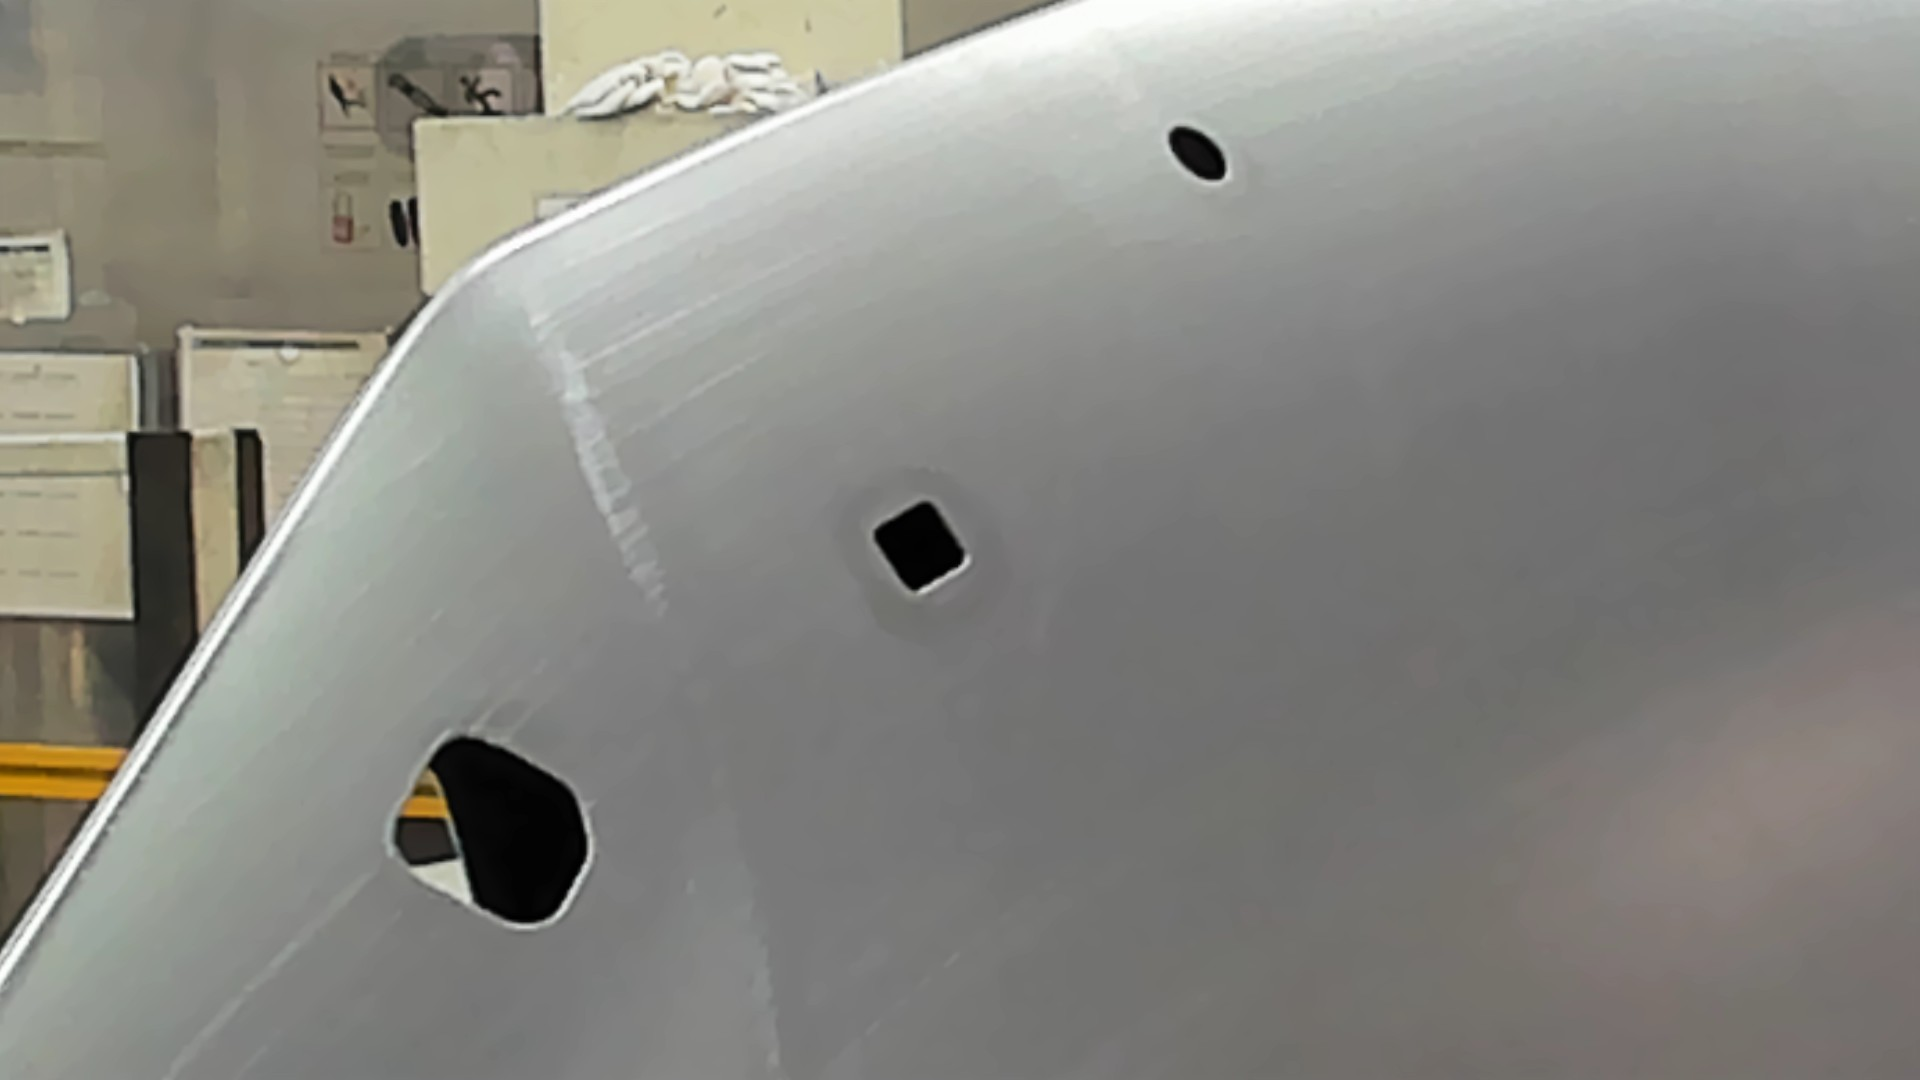capo: (975, 194, 1920, 1080)
chico: (1164, 120, 1233, 190)
grande: (375, 723, 600, 944)
mediano: (865, 495, 977, 599)
